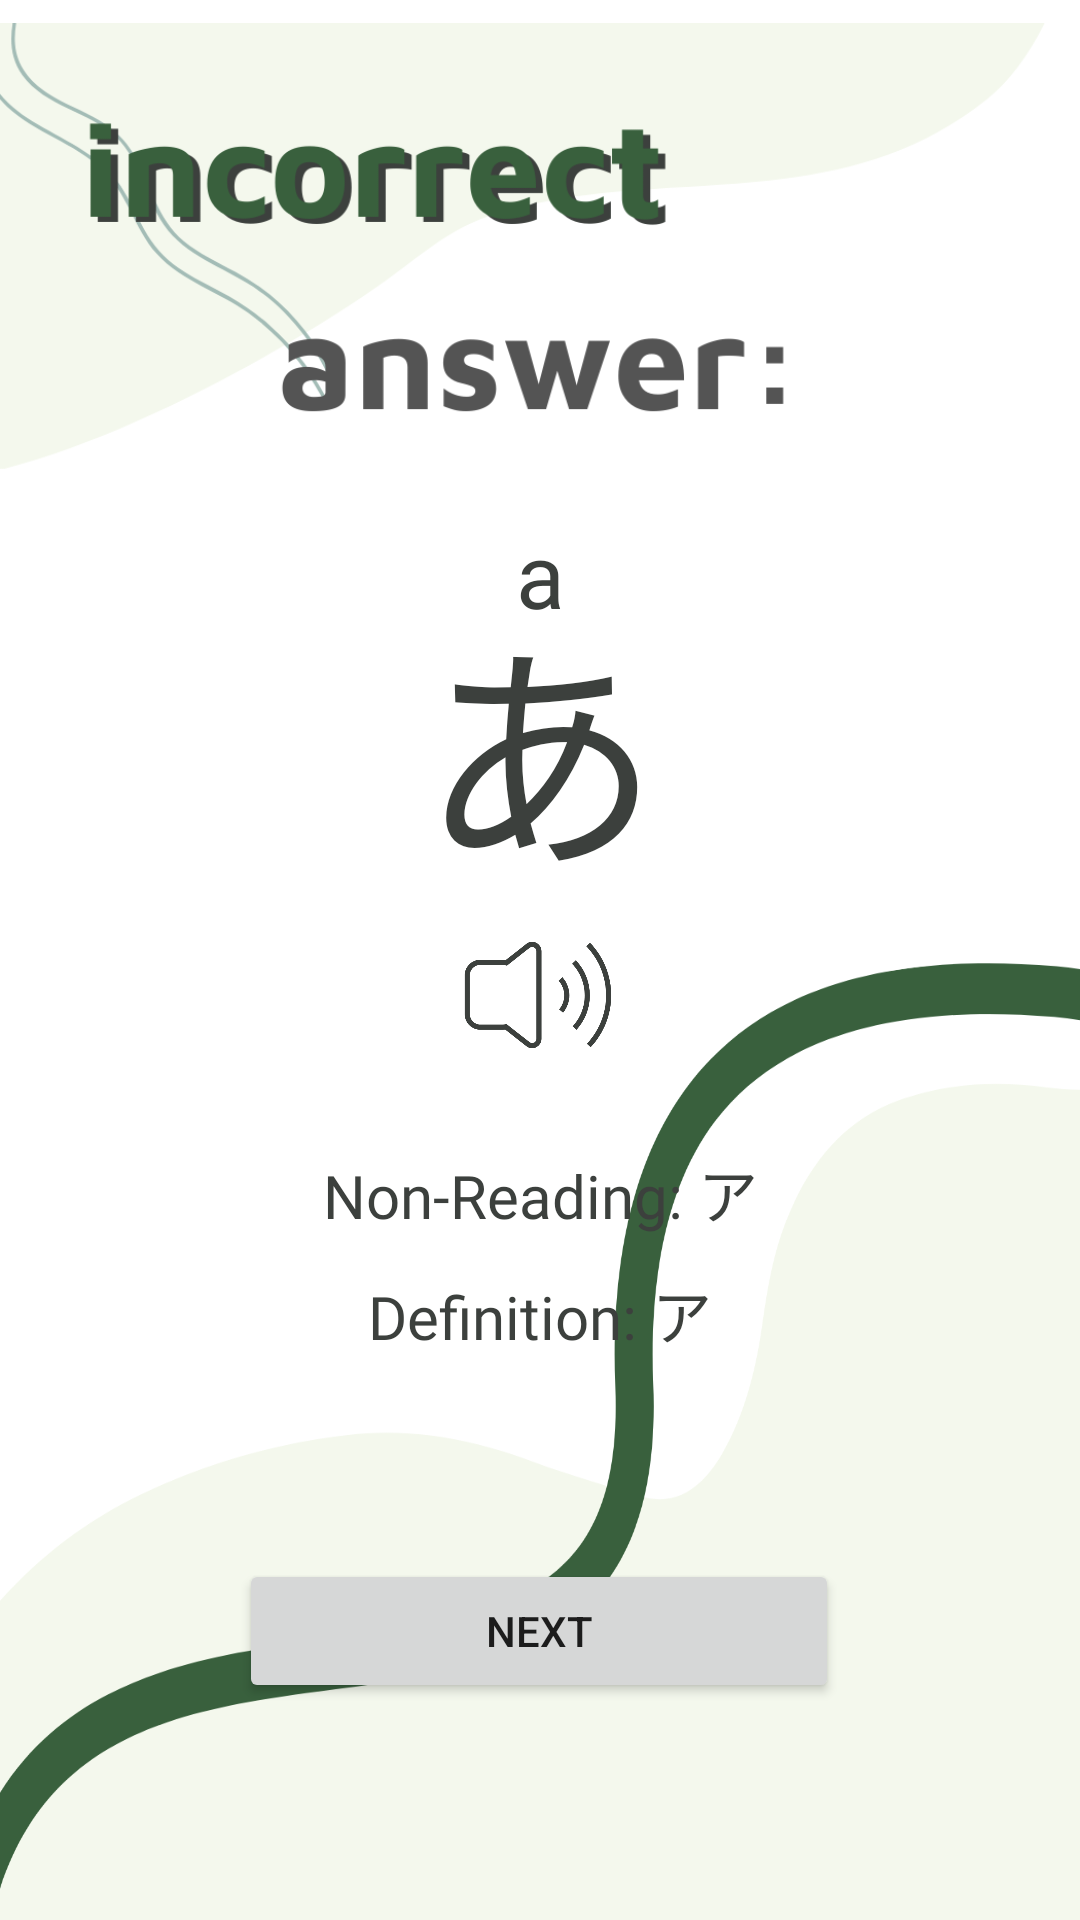

Locate icon controls on the screen. Image size 1080w x 1920h, boxes as (x1, y1, x2, y2).
sound: (465, 942, 611, 1048)
